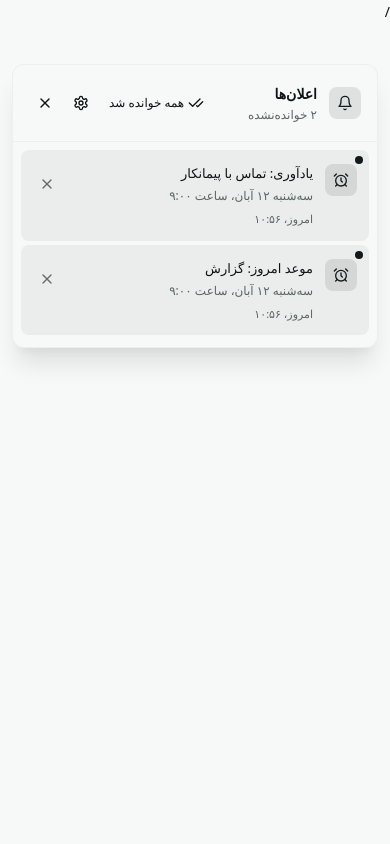
Test: notification center › marks all read and deletes one
Click the button "همه خوانده شد" at (157, 103), box 101,81 -> 212,125
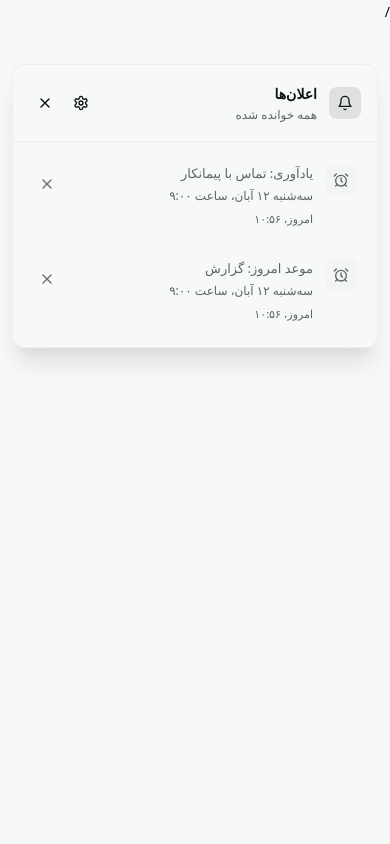
Now the text "همه خوانده شده" is shown, box 236,106 -> 317,124
Click the button named "حذف اعلان «موعد امروز: گزارش»" at (47, 279), box 33,257 -> 61,301
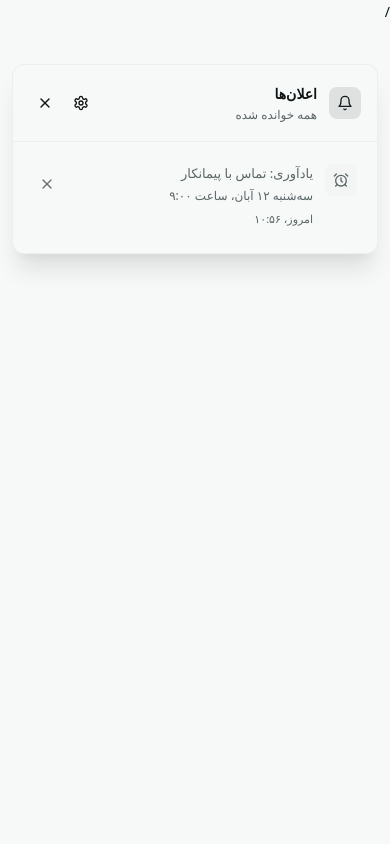
Now the button "موعد امروز: گزارش" is gone
